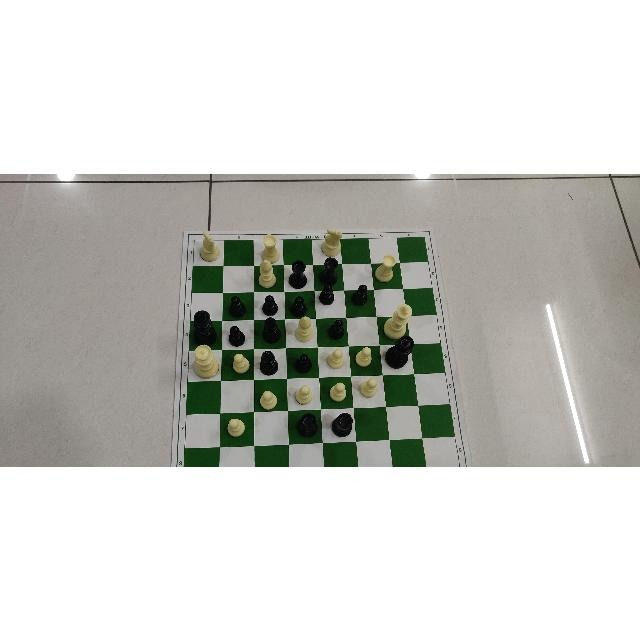black-bishop: (262, 315, 282, 343), (261, 348, 278, 376)
black-king: (192, 308, 218, 347)
black-pawn: (229, 294, 249, 320), (326, 318, 347, 340), (293, 353, 315, 373), (262, 293, 280, 316), (354, 283, 371, 307), (290, 294, 309, 315), (228, 326, 247, 346), (319, 283, 336, 304)
black-queen: (384, 334, 416, 368)
black-rook: (288, 259, 309, 289), (330, 411, 353, 438), (296, 411, 320, 436), (321, 255, 341, 285)
white-bishop: (293, 314, 314, 342), (257, 258, 276, 288)
white-king: (383, 302, 415, 338)
white-knight: (199, 228, 220, 262), (321, 226, 341, 256)
white-pawn: (357, 376, 378, 399), (258, 389, 279, 411), (329, 379, 349, 402), (325, 346, 344, 370), (294, 383, 313, 406), (355, 344, 373, 368), (225, 416, 245, 437), (233, 352, 251, 374)
white-queen: (193, 343, 221, 379)
white-rook: (374, 253, 396, 283), (262, 235, 280, 263)
